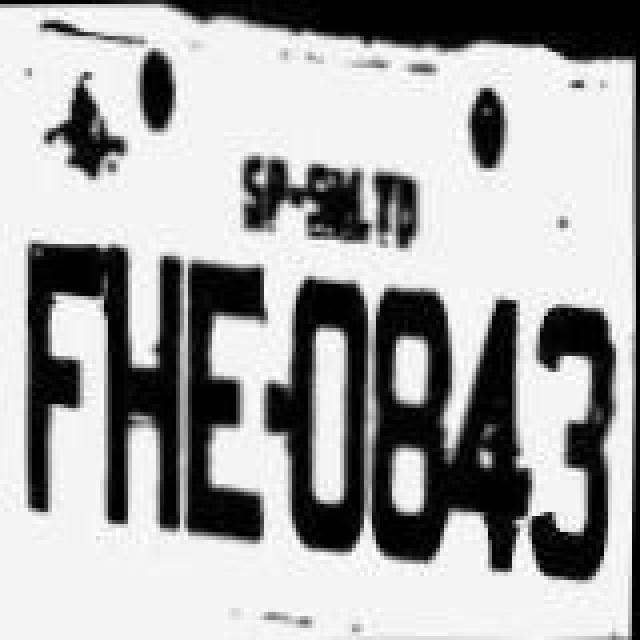3: (524, 296, 620, 584)
4: (442, 286, 538, 574)
8: (368, 280, 460, 568)
E: (178, 254, 282, 546)
F: (20, 230, 112, 530)
H: (96, 238, 188, 530)
O: (284, 268, 376, 560)
